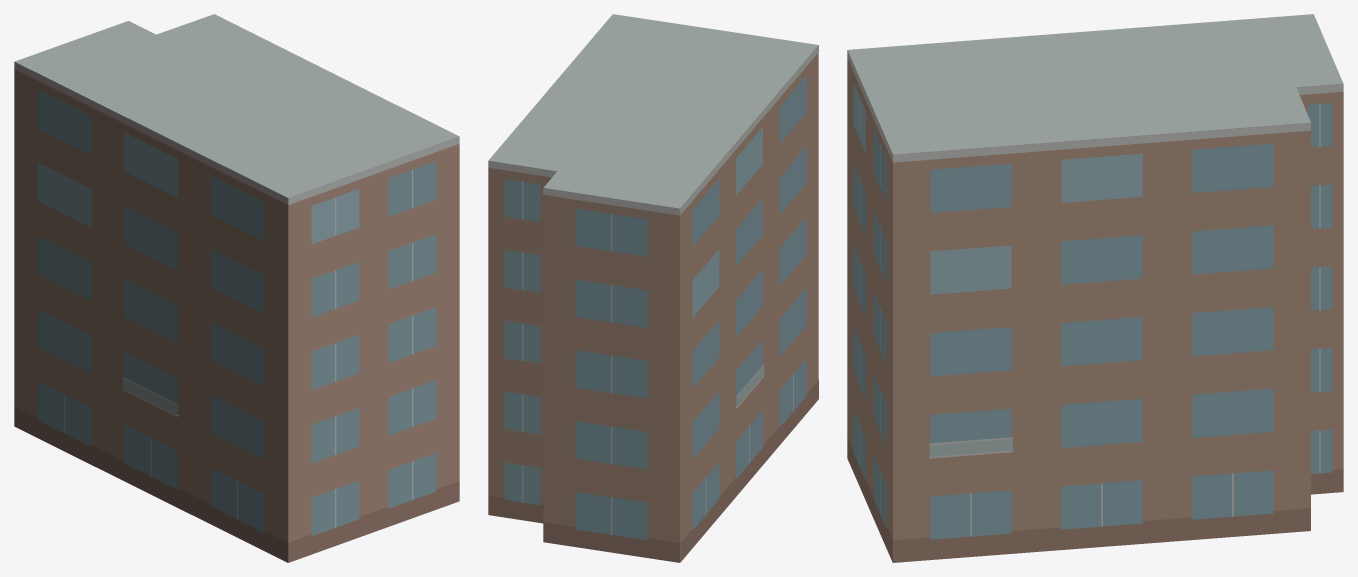
Rendered from survey-upis-32702597.glb.
The picture shows the model from 3 angles, left to right: view 1: azimuth 30°, elevation 25°; view 2: azimuth 150°, elevation 25°; view 3: azimuth 270°, elevation 25°; orthographic projection. The views are drawn at different scales.
Parts seen in each view (by area): view 1: survey-upis-32702597.tmp; view 2: survey-upis-32702597.tmp; view 3: survey-upis-32702597.tmp.
Part boxes in pixels (x1,y1,x2,y2): survey-upis-32702597.tmp: (14, 14, 459, 562); survey-upis-32702597.tmp: (488, 14, 818, 562); survey-upis-32702597.tmp: (847, 14, 1343, 562).
Size of the model in its own units: 9.12 by 12.35 by 13.61.
